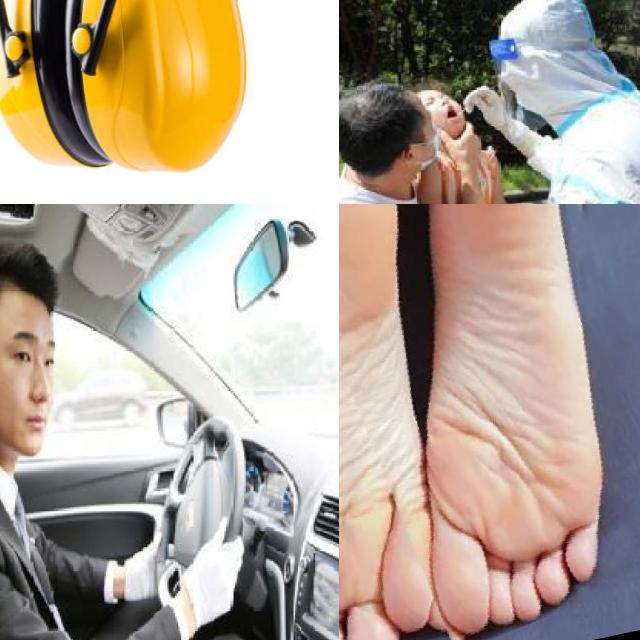Barefoots: (426, 204, 618, 635), (339, 204, 429, 640)
Ear-protection: (0, 0, 279, 184)
No_Glasses: (2, 326, 58, 382)
face_nomask: (0, 297, 73, 465), (423, 89, 468, 141)
hand_glove: (182, 516, 244, 633), (125, 532, 182, 602), (463, 82, 508, 134)
hand_noglove: (436, 121, 484, 166)
head_nohelmet: (339, 76, 414, 159), (0, 236, 62, 316)
person: (0, 231, 249, 640), (472, 0, 640, 204)
